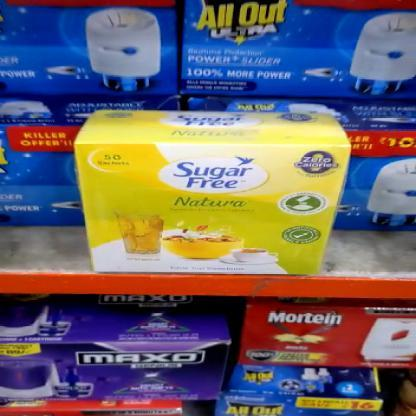SUGAR FREE NATURA SACHET 50: (75, 145, 352, 268)
